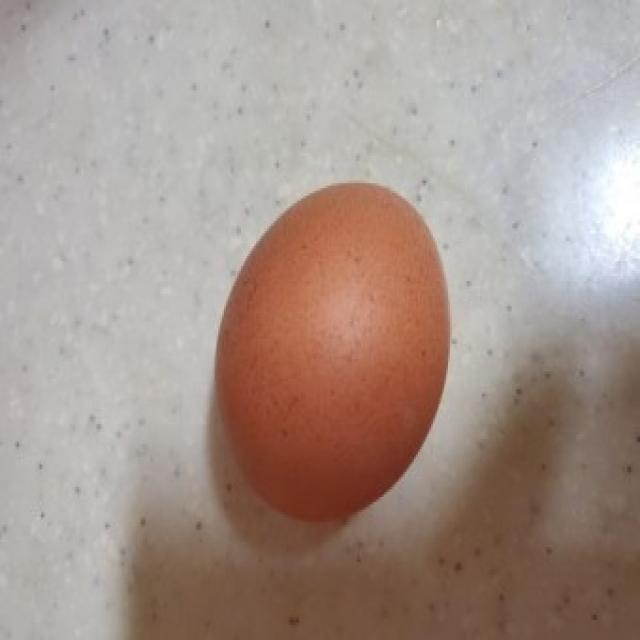eggs: (203, 169, 457, 539)
